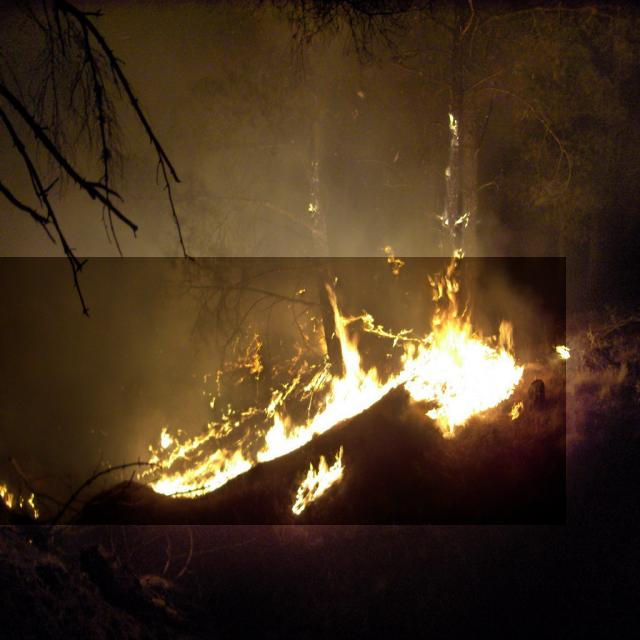Fire: (0, 257, 566, 525)
